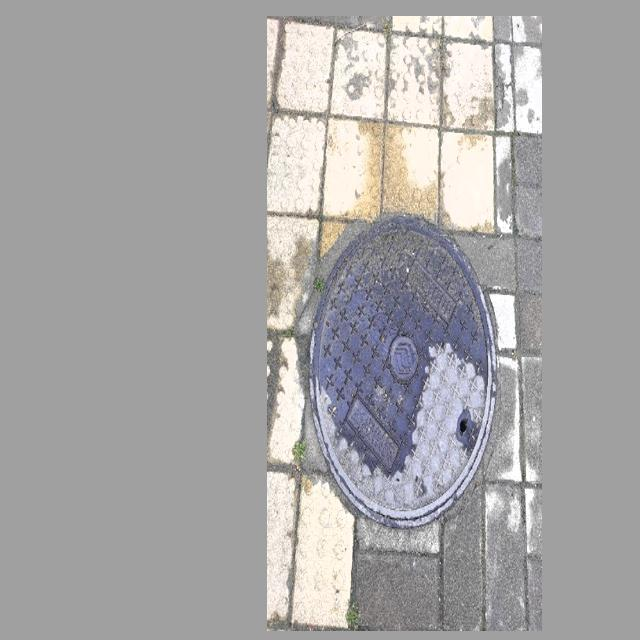good: (308, 216, 496, 529)
